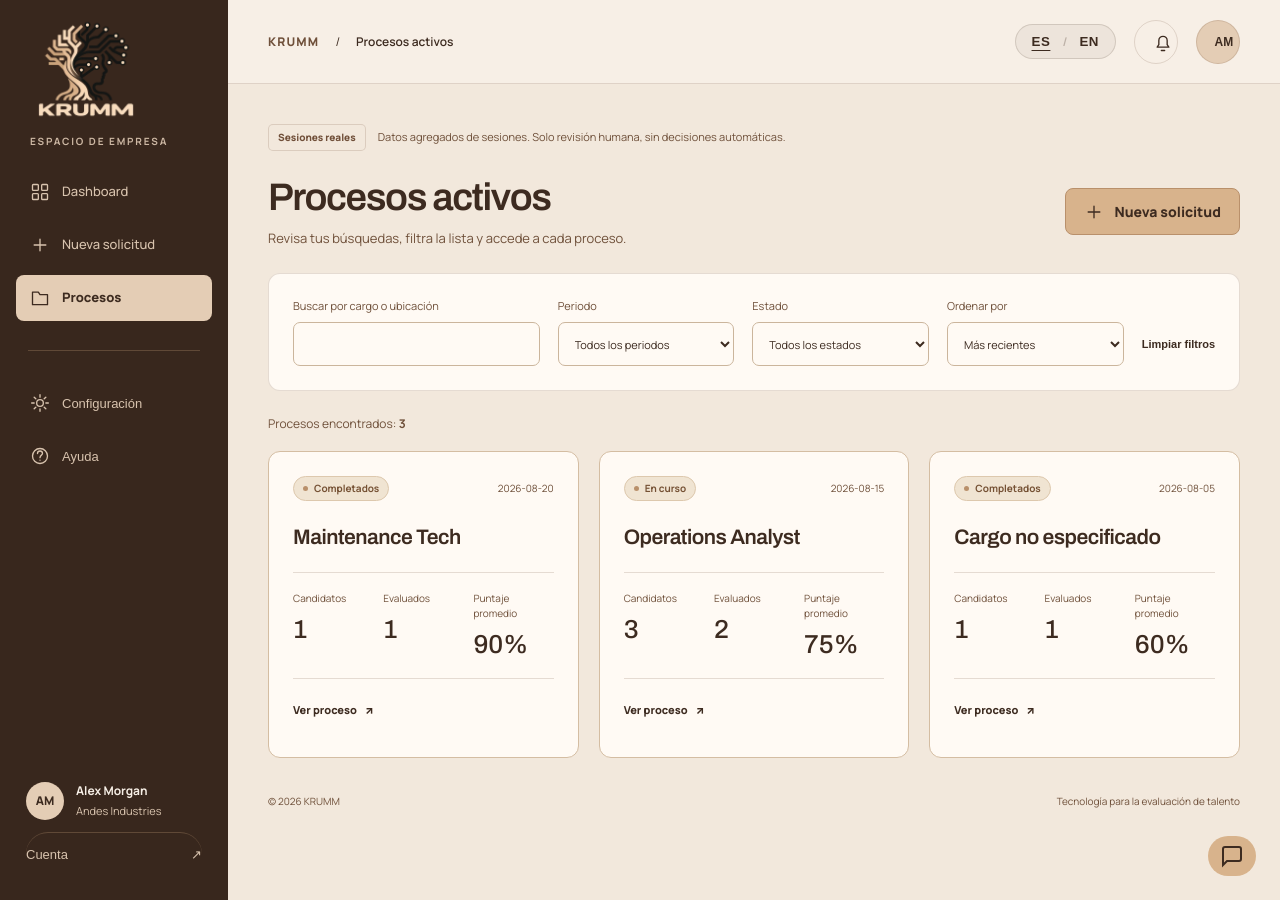
Test: B3 (KRU-50) — filtros real + brief + exports › filtro Estado (authed): in_progress → solo el grupo con sesiones en curso; reset restaura
The image size is (1280, 900).
Expected: the text "Sesiones reales" is shown, [268, 124, 366, 151]
Select "En curso" in the dropdown labelled "Estado": [841, 344] box [752, 322, 929, 366]
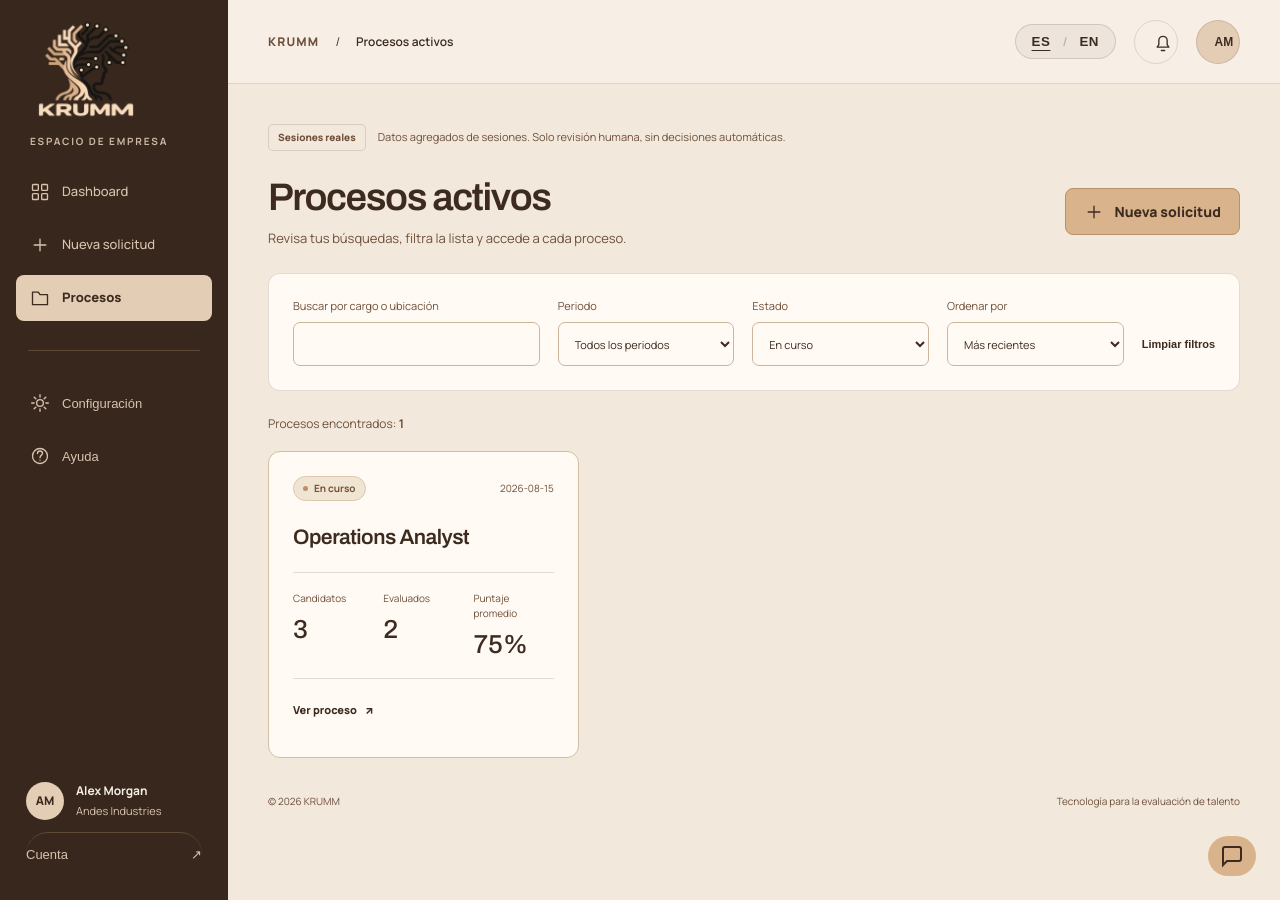
Expected: the element with test id "v2-card-operations-analyst" is shown, [268, 451, 579, 758]
Now the text with test id "v2-process-count" reads "1", box [399, 415, 404, 432]
Now the element with test id "v2-card-maintenance-tech" is gone
Click the button "Limpiar filtros": [1178, 344] box [1142, 322, 1215, 366]
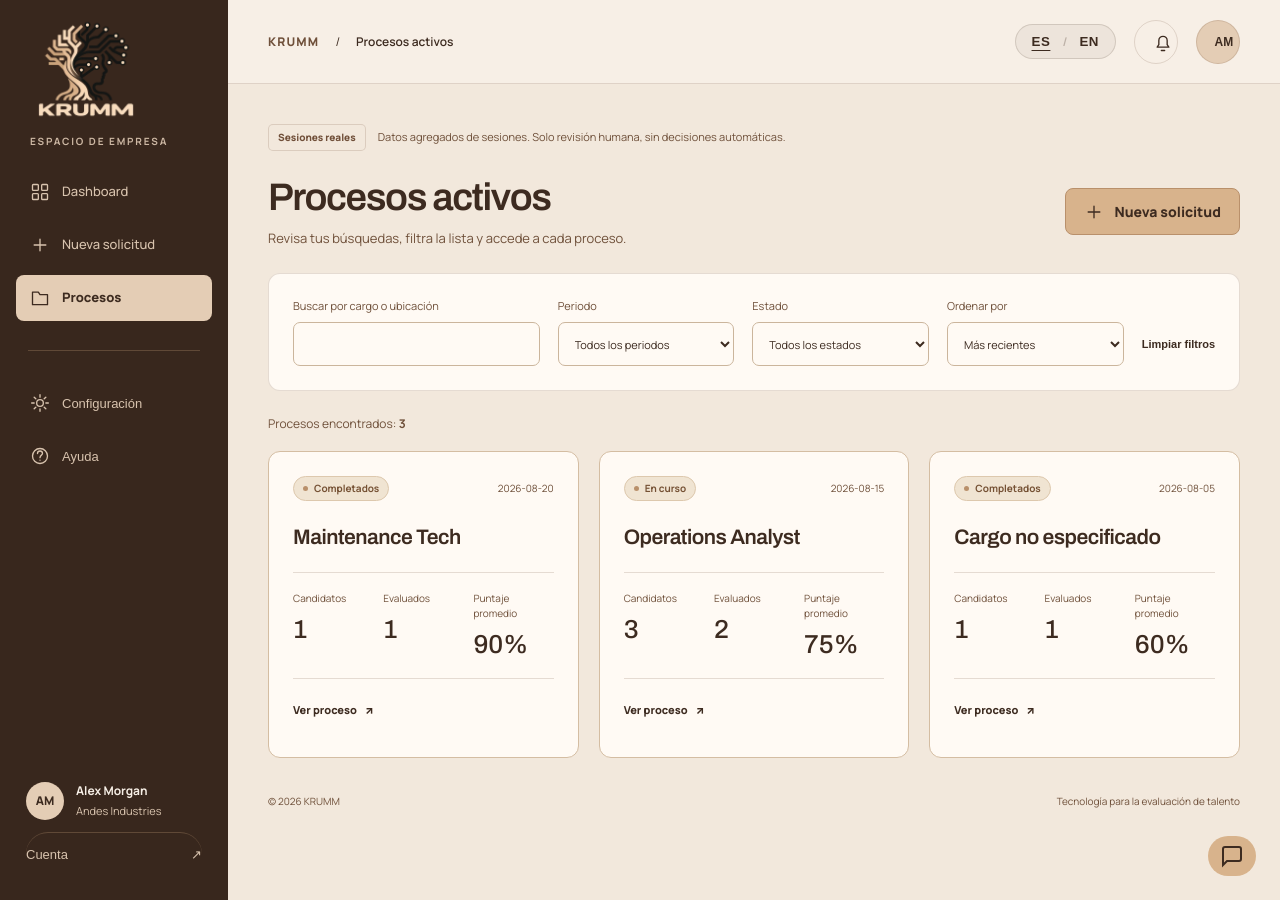
Now the text with test id "v2-process-count" reads "3", box [399, 415, 406, 432]
